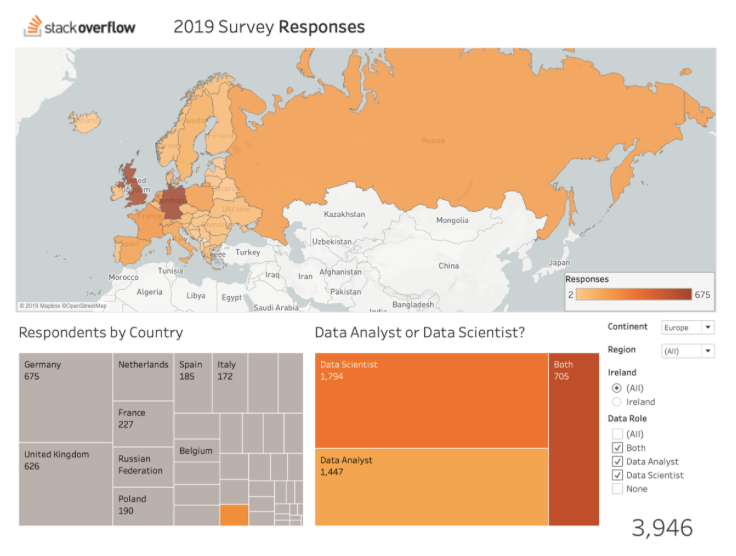

The page's visual inventory and layout, read from the dashboard file:
{"tool":"tableau","page":{"name":"1. Overview","canvas":[1000,800],"ordinal":0},"visuals":[{"type":"image","param":"/Users/barrysheppard/Github/B8IT107DataVis/images/stack_overflow.png","box":[8,8,217,52]},{"type":"title","box":[225,8,767,52]},{"type":"worksheet","title":"World Map","mark":"Multipolygon","box":[8,60,984,377]},{"type":"legend","title":"World Map","param":"[federated.1a2aqu8180pfx518255rt1lipdfz].[cnt:Respondent:qk]","box":[776,376,209,55]},{"type":"worksheet","title":"Respondents by Country","mark":"Automatic","box":[8,437,412,355]},{"type":"worksheet","title":"Data Analyst or Data Scientist?","mark":"Automatic","box":[420,437,412,355]},{"type":"filter","title":"World Map","param":"[federated.1a2aqu8180pfx518255rt1lipdfz].[none:continent:nk]","box":[832,437,160,32]},{"type":"filter","title":"World Map","param":"[federated.1a2aqu8180pfx518255rt1lipdfz].[none:region:nk]","box":[832,469,160,34.3]},{"type":"filter","title":"World Map","param":"[federated.1a2aqu8180pfx518255rt1lipdfz].[none:Ireland:nk]","box":[832,503.3,160,63.7]},{"type":"filter","title":"World Map","param":"[federated.1a2aqu8180pfx518255rt1lipdfz].[Action (data_role)]","box":[832,567,160,137]},{"type":"worksheet","title":"Total Number","mark":"Automatic","box":[832,704,160,88]}]}

Visuals, with their boxes on the page's 1000x800 design canvas (x1, y1, x2, y2). These are canvas units, not pixel positions in the 736x556 screenshot, which may show the page scaled, cropped or inside an application window:
image: <bbox>8, 8, 225, 60</bbox>
title: <bbox>225, 8, 992, 60</bbox>
"World Map" worksheet (Multipolygon marks): <bbox>8, 60, 992, 437</bbox>
"World Map" legend: <bbox>776, 376, 985, 431</bbox>
"Respondents by Country" worksheet: <bbox>8, 437, 420, 792</bbox>
"Data Analyst or Data Scientist?" worksheet: <bbox>420, 437, 832, 792</bbox>
"World Map" filter: <bbox>832, 437, 992, 469</bbox>
"World Map" filter: <bbox>832, 469, 992, 503</bbox>
"World Map" filter: <bbox>832, 503, 992, 567</bbox>
"World Map" filter: <bbox>832, 567, 992, 704</bbox>
"Total Number" worksheet: <bbox>832, 704, 992, 792</bbox>
